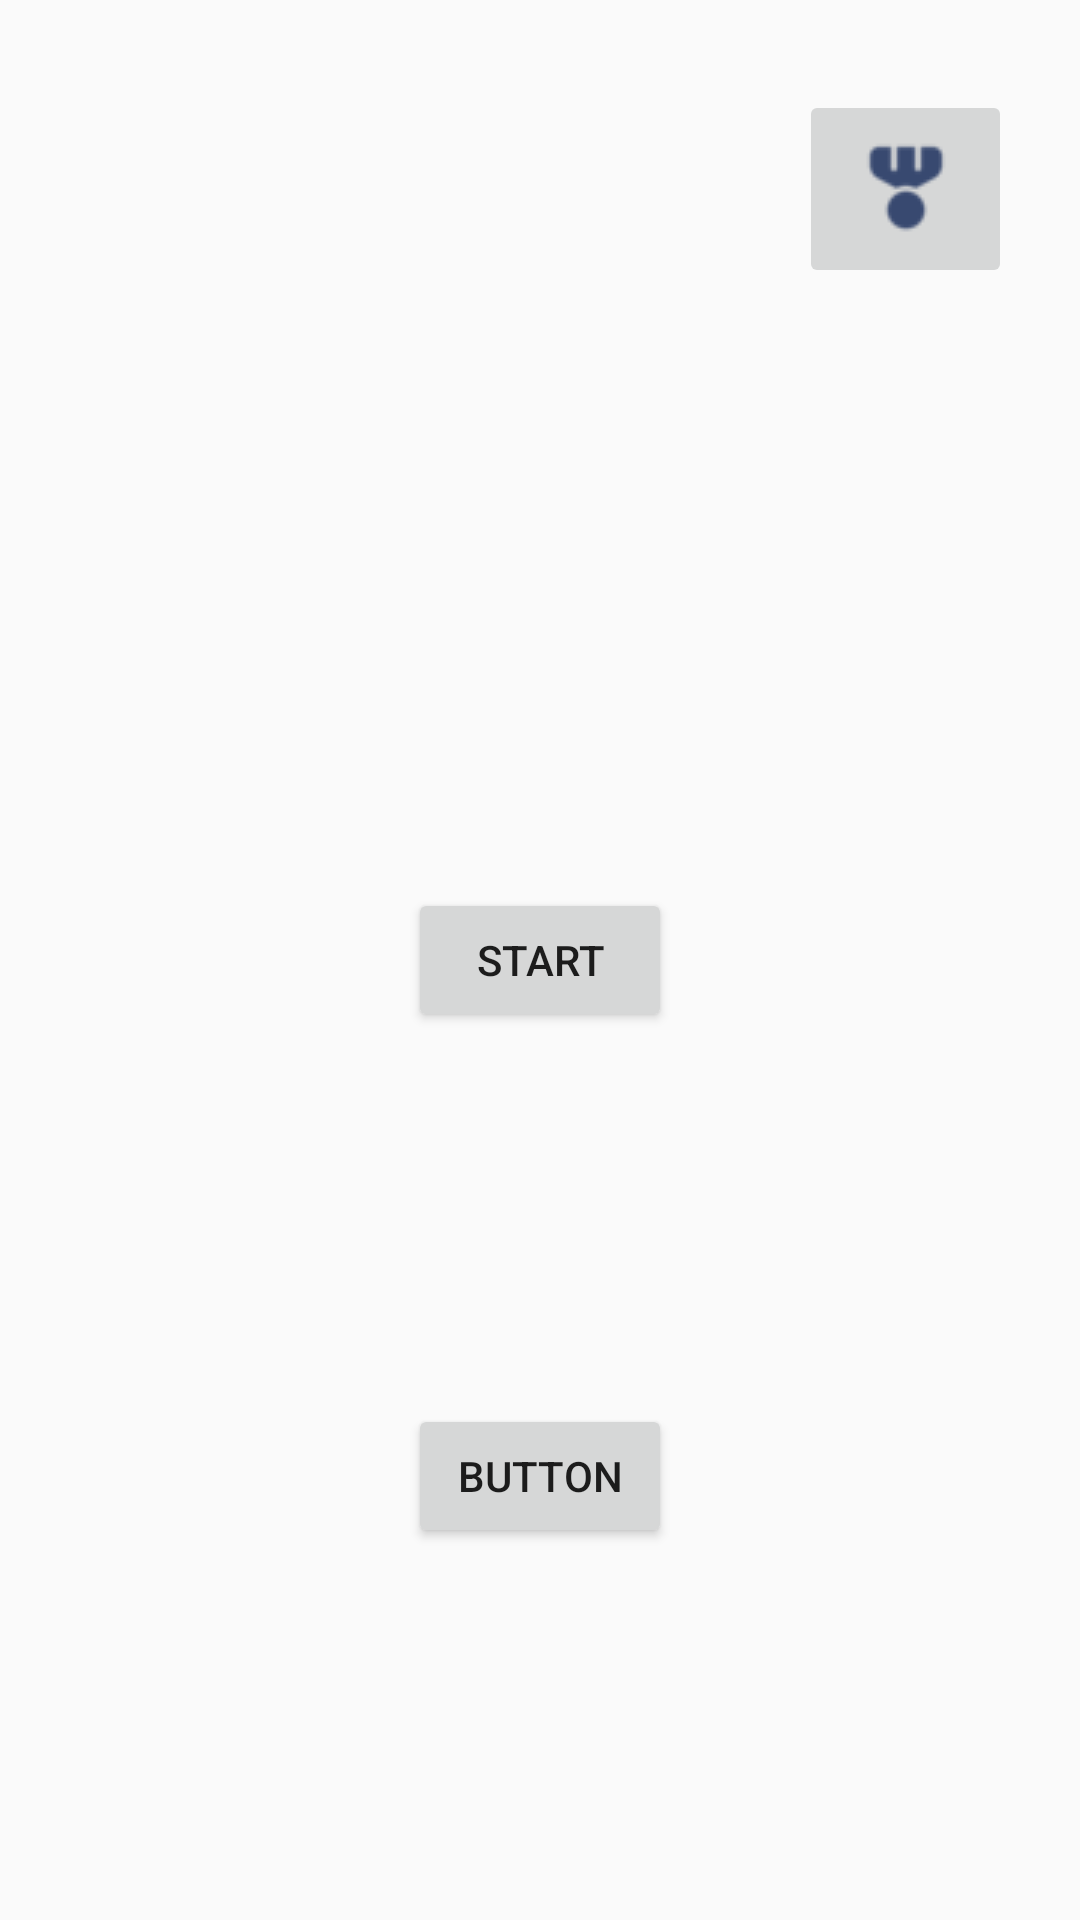

Locate icon controls on the screen. Image size 1080px×1920px, boxes as BBox(x1, y1, x2, y2).
badge achievement medal: BBox(811, 108, 1000, 270)
